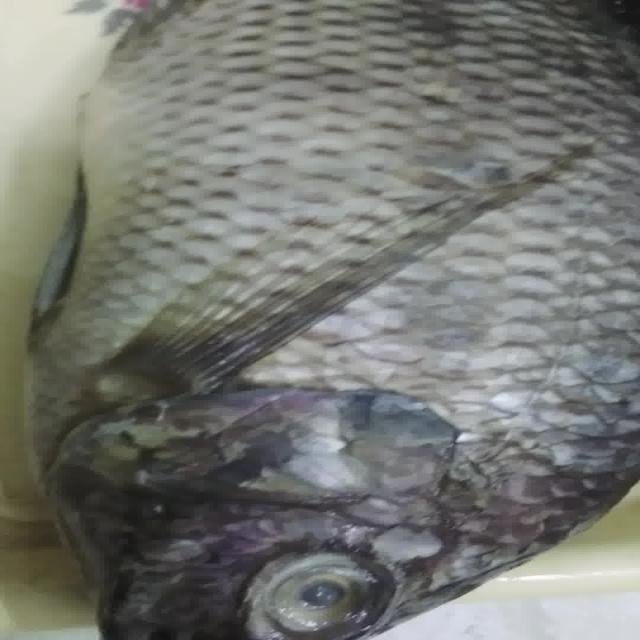Non-Fresh: (79, 279, 606, 507), (261, 554, 383, 632)
